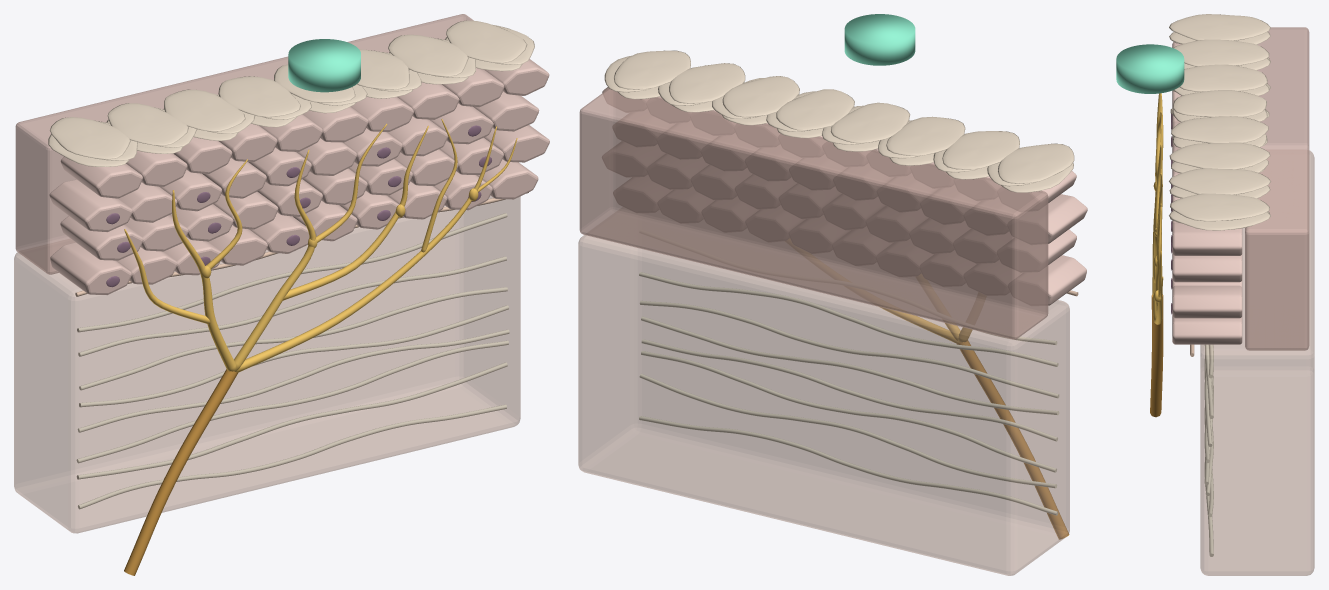
File: free-ending-DpB35QWW.glb
The picture shows the model from 3 angles, left to right: view 1: azimuth 30°, elevation 25°; view 2: azimuth 150°, elevation 25°; view 3: azimuth 270°, elevation 25°; orthographic projection. The views are drawn at different scales.
Parts seen in each view (by area): view 1: free-ending__dermis__01, free-ending__epidermis__02, free-ending__epidermis__58, free-ending__dermis__02, free-ending__epidermis__01, free-ending__terminal__01, free-ending__stimulus-probe__01, free-ending__axon__01, free-ending__epidermis__03; view 2: free-ending__dermis__01, free-ending__epidermis__01, free-ending__epidermis__02, free-ending__epidermis__58, free-ending__dermis__02, free-ending__stimulus-probe__01, free-ending__axon__01, free-ending__terminal__01; view 3: free-ending__dermis__01, free-ending__epidermis__58, free-ending__epidermis__01, free-ending__epidermis__02, free-ending__stimulus-probe__01, free-ending__terminal__01, free-ending__dermis__02, free-ending__axon__01.
Part boxes in pixels (bbox=[...]): free-ending__dermis__01: bbox=[14, 195, 520, 533]; free-ending__epidermis__02: bbox=[49, 59, 549, 295]; free-ending__epidermis__58: bbox=[48, 20, 534, 166]; free-ending__dermis__02: bbox=[76, 213, 509, 509]; free-ending__epidermis__01: bbox=[15, 14, 473, 274]; free-ending__terminal__01: bbox=[124, 119, 517, 372]; free-ending__stimulus-probe__01: bbox=[288, 39, 360, 92]; free-ending__axon__01: bbox=[124, 369, 237, 575]; free-ending__epidermis__03: bbox=[106, 125, 491, 287]; free-ending__dermis__01: bbox=[578, 219, 1069, 575]; free-ending__epidermis__01: bbox=[579, 88, 1048, 339]; free-ending__epidermis__02: bbox=[602, 87, 1087, 305]; free-ending__epidermis__58: bbox=[604, 50, 1074, 192]; free-ending__dermis__02: bbox=[639, 272, 1059, 515]; free-ending__stimulus-probe__01: bbox=[844, 14, 915, 65]; free-ending__axon__01: bbox=[957, 340, 1069, 539]; free-ending__terminal__01: bbox=[880, 307, 972, 343]; free-ending__dermis__01: bbox=[1200, 150, 1314, 575]; free-ending__epidermis__58: bbox=[1169, 14, 1270, 230]; free-ending__epidermis__01: bbox=[1245, 27, 1309, 350]; free-ending__epidermis__02: bbox=[1172, 42, 1242, 344]; free-ending__stimulus-probe__01: bbox=[1116, 44, 1184, 93]; free-ending__terminal__01: bbox=[1152, 93, 1163, 324]; free-ending__dermis__02: bbox=[1204, 344, 1213, 556]; free-ending__axon__01: bbox=[1150, 294, 1163, 417].
Size of the model in its own units: 2.82 by 2.75 by 1.11.
